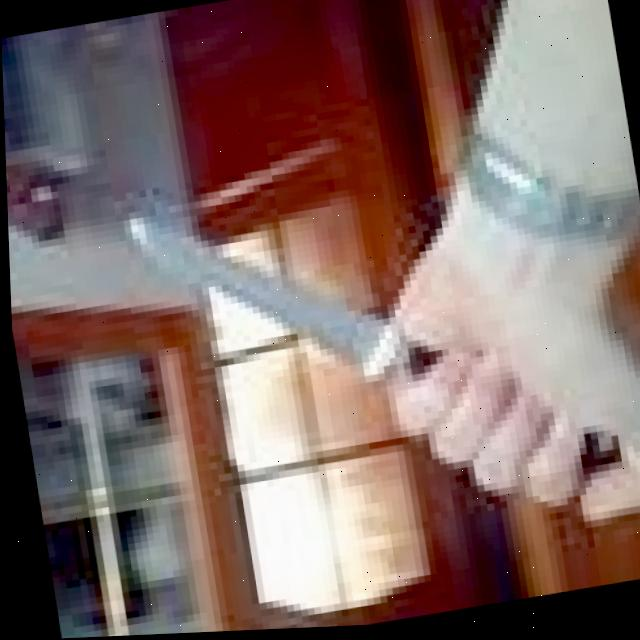knife: (111, 162, 403, 416)
